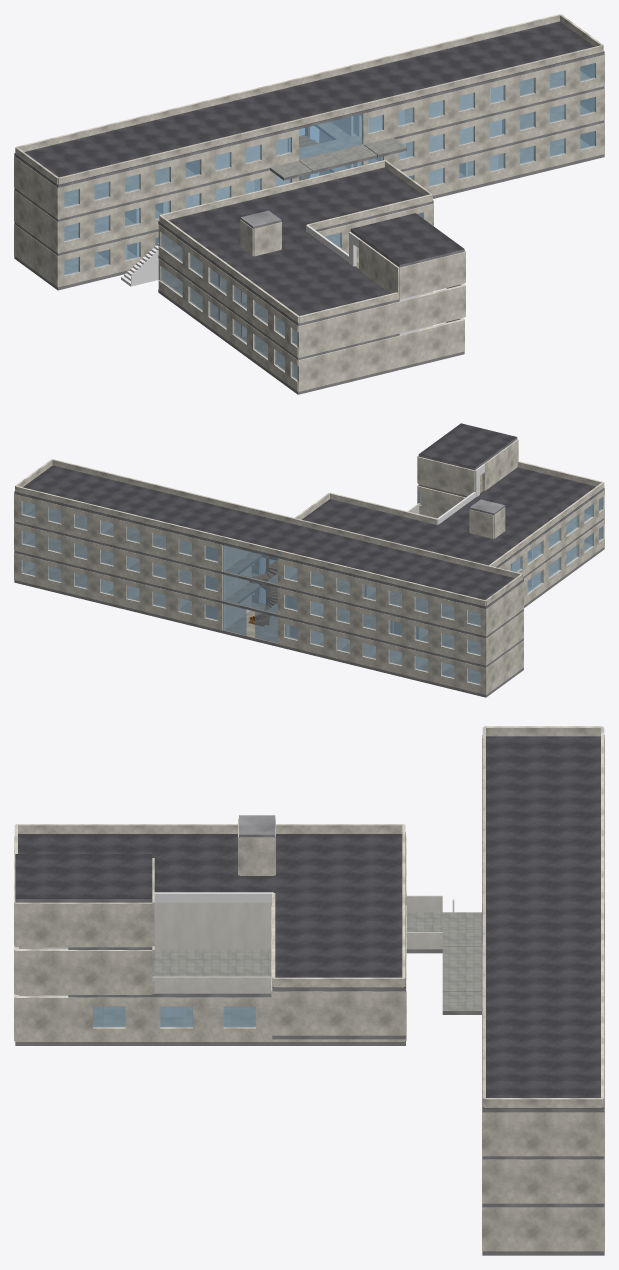
File: batiment.obj
3 views of the same model, one above another, from view 1: azimuth 30°, elevation 25°; view 2: azimuth 150°, elevation 25°; view 3: azimuth 270°, elevation 25° (orthographic). The views are drawn at different scales.
Visible parts, largest first — view 1: Toit_toit, Niveau1_facade, Niveau0_facade, Niveau2_facade, Toit_facade, Dalles_dalle, Sols_sol, Niveau2_verre, Niveau1_verre, Niveau0_verre, Niveau2_mur, Platformes_ext_ext (+3 smaller); view 2: Toit_toit, Niveau1_facade, Niveau2_facade, Niveau0_facade, Toit_facade, Dalles_dalle, Sols_sol, Niveau1_verre, Niveau0_verre, Niveau2_verre, Niveau0_mur, Niveau1_mur (+2 smaller); view 3: Toit_toit, Niveau1_facade, Niveau0_facade, Toit_facade, Niveau2_facade, Niveau1_mur, Platformes_ext_ext, Dalles_dalle, Niveau0_verre, Sols_sol, Toit_dalle.
Boxes of the visible parts, x1,y1,x2,y2 form: Toit_toit: [14, 21, 604, 323]; Niveau1_facade: [14, 88, 604, 357]; Niveau0_facade: [14, 122, 604, 391]; Niveau2_facade: [14, 54, 604, 299]; Toit_facade: [15, 14, 603, 323]; Dalles_dalle: [14, 52, 604, 394]; Sols_sol: [64, 71, 589, 391]; Niveau2_verre: [64, 63, 595, 207]; Niveau1_verre: [64, 97, 595, 345]; Niveau0_verre: [64, 131, 595, 379]; Niveau2_mur: [186, 86, 502, 174]; Platformes_ext_ext: [270, 137, 406, 177]; Toit_toit: [14, 423, 603, 606]; Niveau1_facade: [14, 485, 604, 665]; Niveau2_facade: [14, 439, 523, 636]; Niveau0_facade: [14, 519, 604, 694]; Toit_facade: [15, 459, 604, 606]; Dalles_dalle: [14, 437, 604, 697]; Sols_sol: [27, 474, 590, 683]; Niveau1_verre: [22, 492, 602, 655]; Niveau0_verre: [22, 527, 602, 684]; Niveau2_verre: [22, 501, 480, 625]; Niveau0_mur: [102, 572, 540, 671]; Niveau1_mur: [128, 503, 540, 639]; Toit_toit: [15, 735, 604, 1108]; Niveau1_facade: [14, 836, 604, 1203]; Niveau0_facade: [14, 994, 604, 1251]; Toit_facade: [14, 726, 604, 1107]; Niveau2_facade: [14, 739, 604, 1156]; Niveau1_mur: [152, 895, 442, 993]; Platformes_ext_ext: [154, 912, 481, 1011]; Dalles_dalle: [15, 899, 604, 1255]; Niveau0_verre: [93, 1006, 255, 1027]; Sols_sol: [93, 1006, 405, 1041]; Toit_dalle: [239, 815, 275, 837].
Size of the model in its own units: 53.96 by 10.89 by 36.07.
